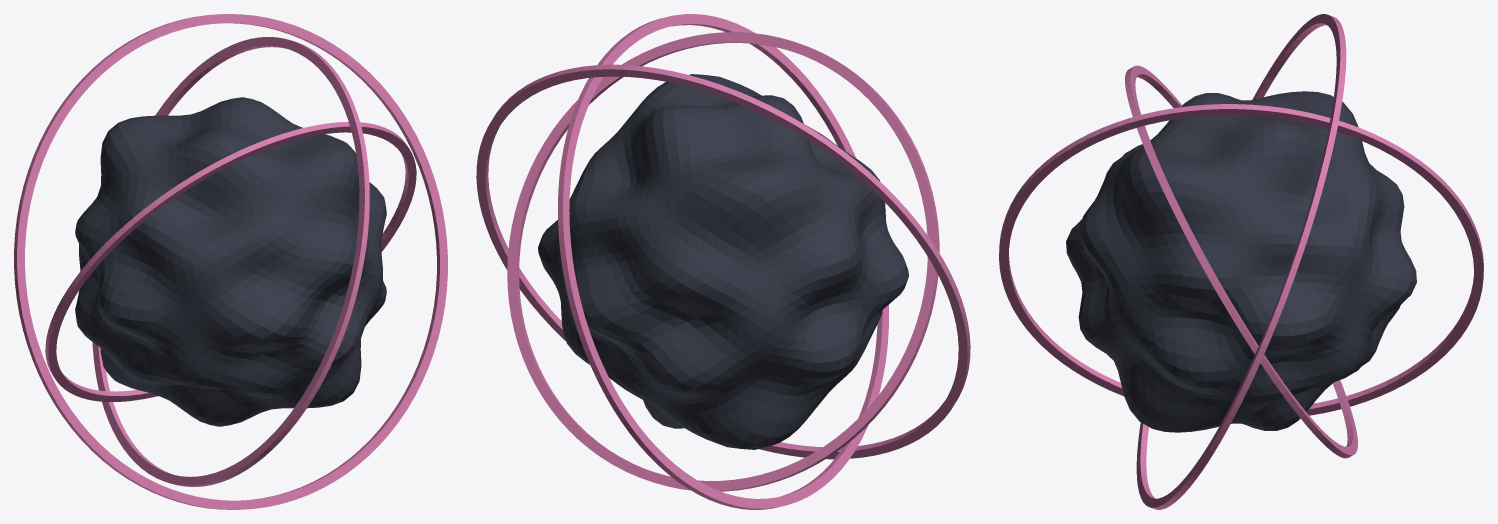
Rendered from gpu-artifact.glb.
3 renders of one model, left to right at view 1: azimuth 30°, elevation 25°; view 2: azimuth 150°, elevation 25°; view 3: azimuth 270°, elevation 25°, orthographic. The views are drawn at different scales.
Parts seen in each view (by area): view 1: neuro-memory-daemon_obsidian_core, neuro-memory-daemon_orbital_ring_2, neuro-memory-daemon_orbital_ring_1, neuro-memory-daemon_orbital_ring_0; view 2: neuro-memory-daemon_obsidian_core, neuro-memory-daemon_orbital_ring_0, neuro-memory-daemon_orbital_ring_2, neuro-memory-daemon_orbital_ring_1; view 3: neuro-memory-daemon_obsidian_core, neuro-memory-daemon_orbital_ring_1, neuro-memory-daemon_orbital_ring_2, neuro-memory-daemon_orbital_ring_0.
Boxes of the visible parts, box(x1,y1,x2,y2) form: neuro-memory-daemon_obsidian_core: box(75, 97, 386, 426); neuro-memory-daemon_orbital_ring_2: box(14, 14, 447, 509); neuro-memory-daemon_orbital_ring_1: box(92, 37, 369, 486); neuro-memory-daemon_orbital_ring_0: box(45, 122, 416, 401); neuro-memory-daemon_obsidian_core: box(538, 74, 908, 449); neuro-memory-daemon_orbital_ring_0: box(507, 32, 939, 491); neuro-memory-daemon_orbital_ring_2: box(476, 64, 970, 459); neuro-memory-daemon_orbital_ring_1: box(558, 14, 888, 509); neuro-memory-daemon_obsidian_core: box(1066, 91, 1416, 432); neuro-memory-daemon_orbital_ring_1: box(999, 104, 1483, 415); neuro-memory-daemon_orbital_ring_2: box(1136, 14, 1346, 509); neuro-memory-daemon_orbital_ring_0: box(1125, 65, 1357, 458).
Bounding box in the file's own units: 3.24 × 3 × 3.
